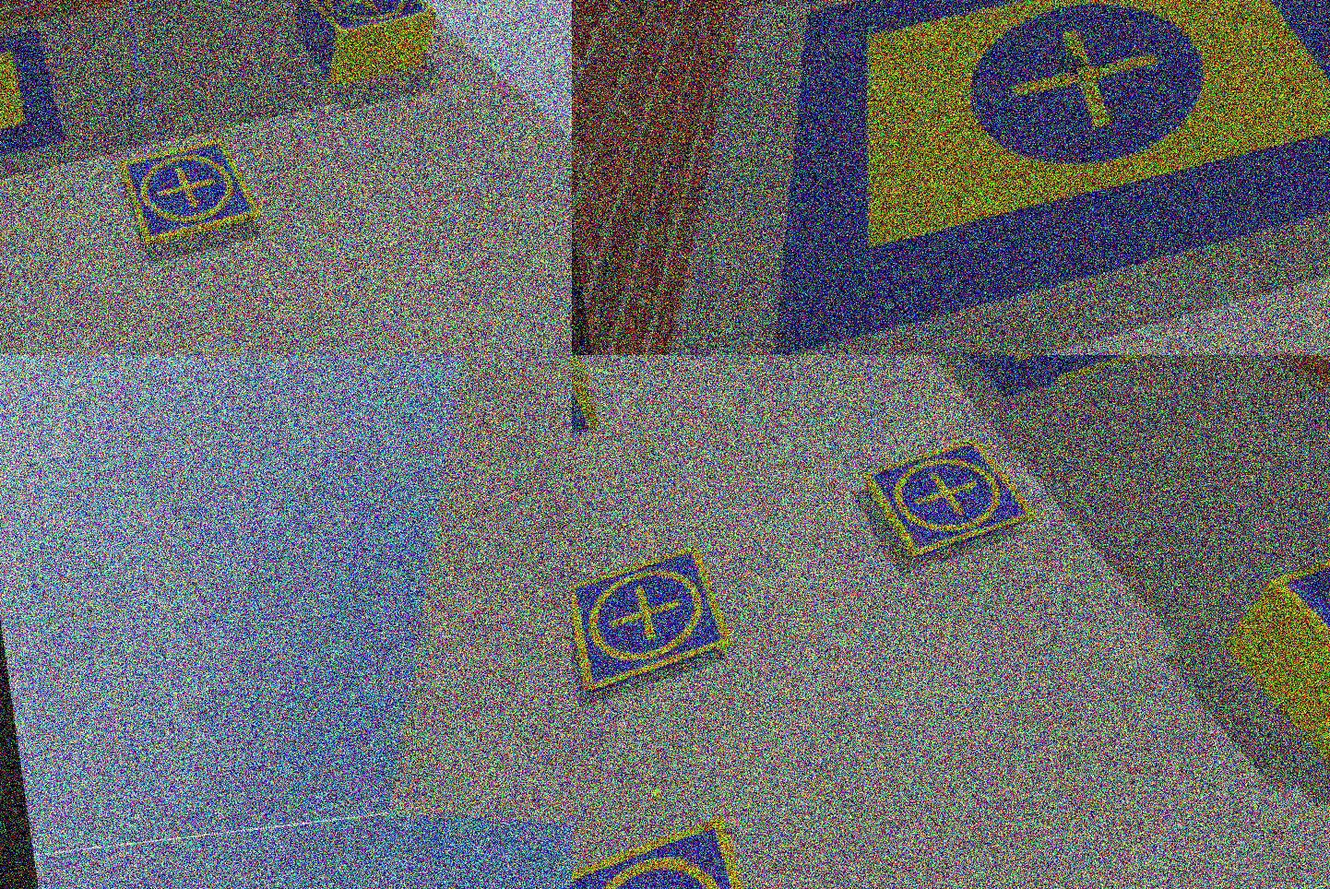large_base: (724, 1, 1330, 352), (909, 356, 1217, 411), (1, 31, 71, 207)
small_base: (573, 542, 736, 695), (862, 433, 1041, 571), (573, 812, 783, 889), (125, 142, 265, 251), (1264, 520, 1330, 739), (300, 1, 438, 46)
